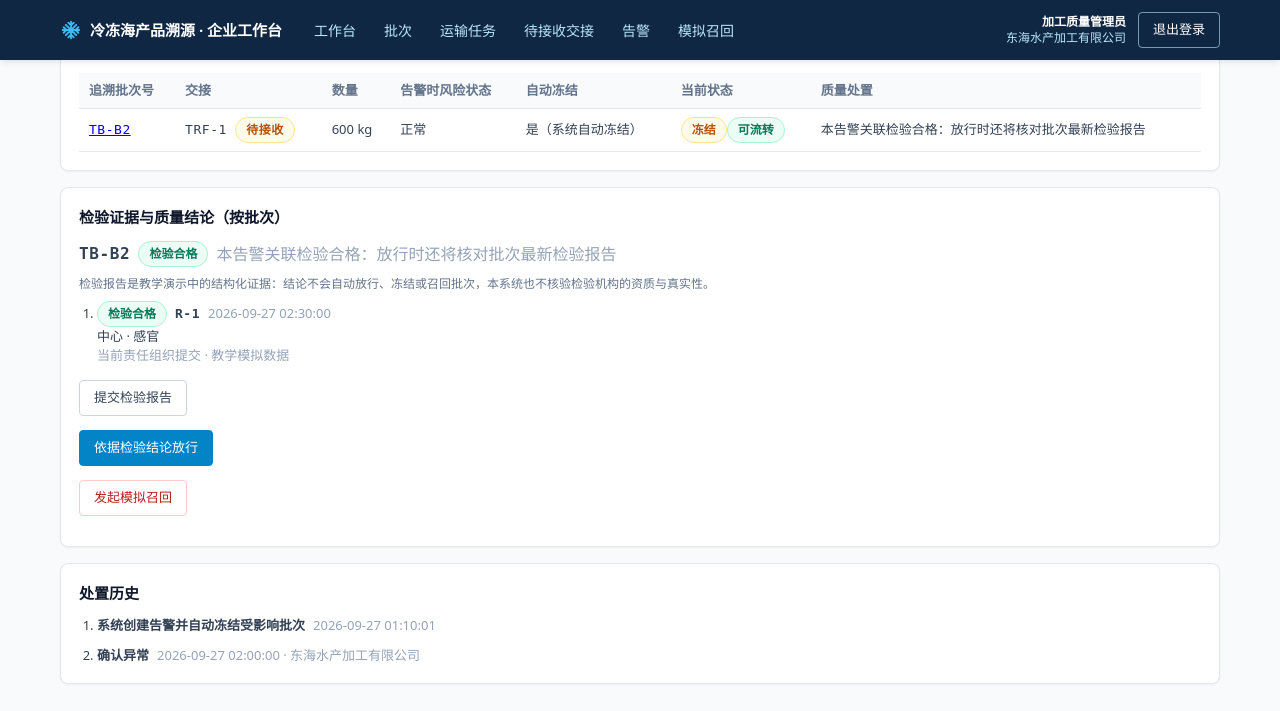
Scenario: AlertDetailView with other open holds (review fix) › records this alert decision but explains that the batch is still held by another alert and the manual freeze
(page scrolled)
Step 1. Click the button with test id "alert-release-open-21" → (146, 448), box [79,430,213,466]
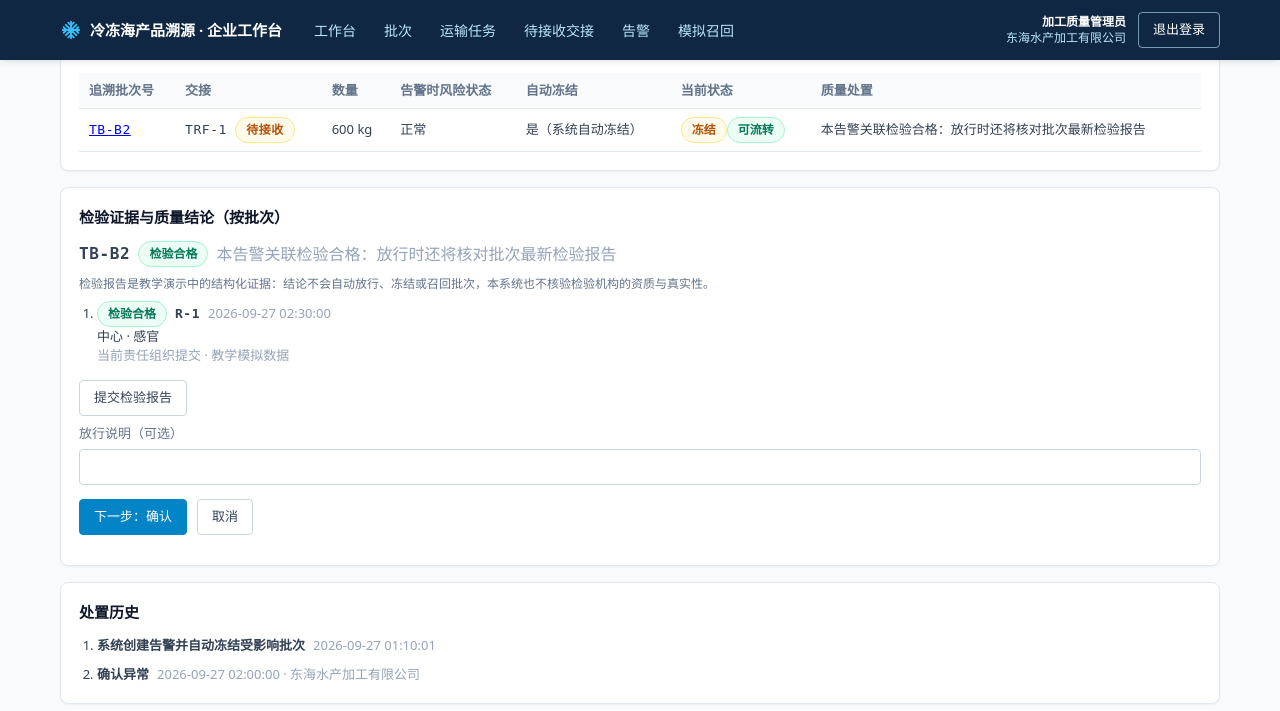
Step 2. Click the button with test id "alert-release-next" → (133, 517), box [79,499,187,535]
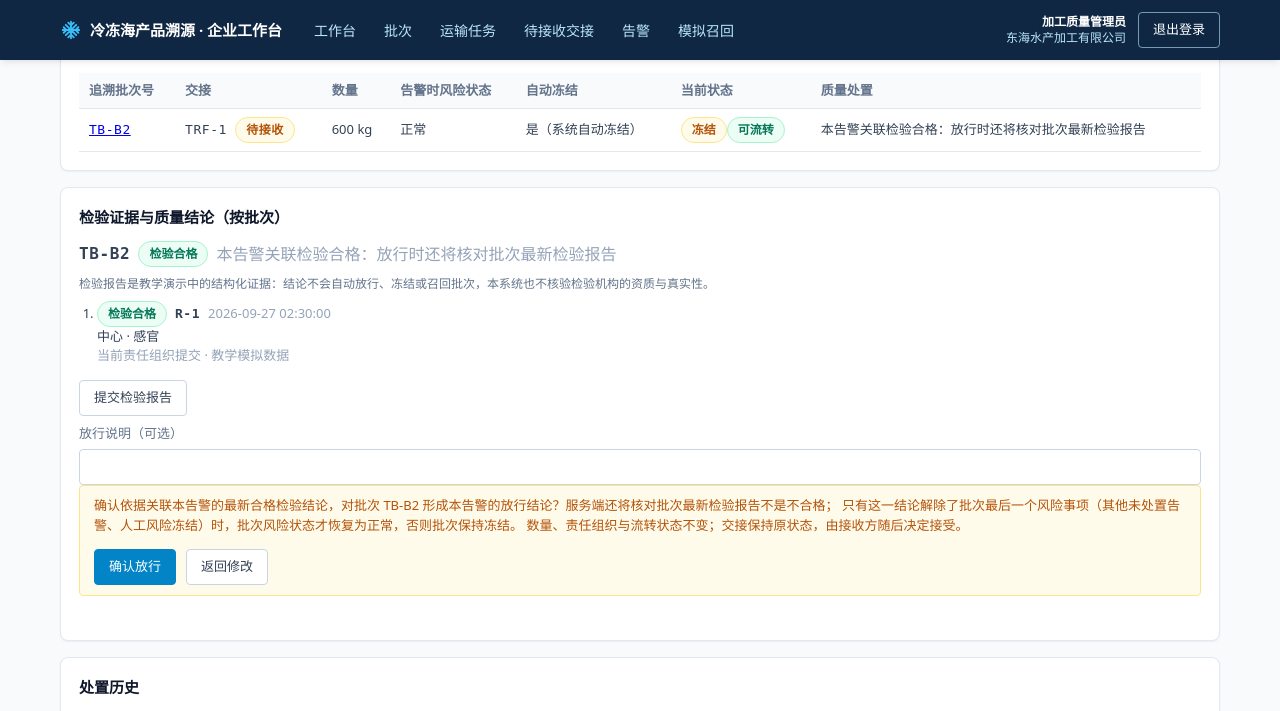
Step 3. Click the button with test id "alert-release-confirm" → (135, 567), box [94,549,176,585]
(page scrolled)
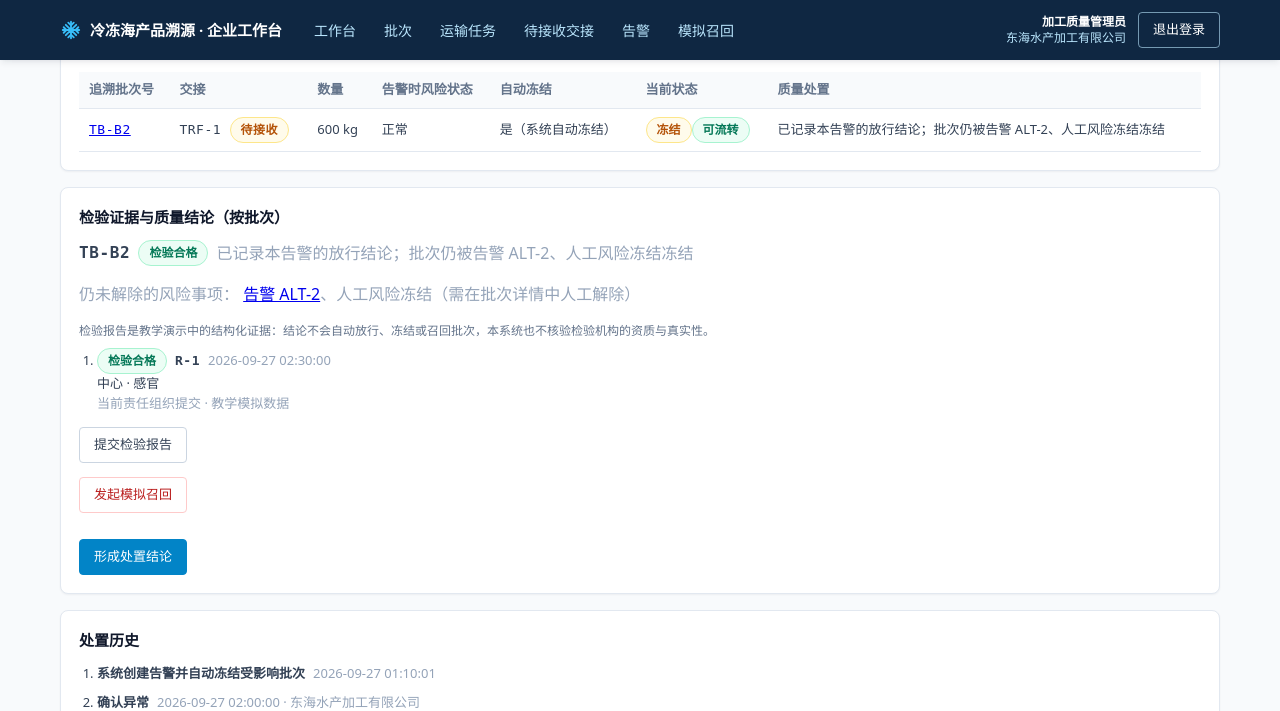
Expected: the cell with test id "alert-batch-disposition" reads "已记录本告警的放行结论；批次仍被告警 ALT-2、人工风险冻结冻结", [778,120,1165,138]
Expected: the text with test id "alert-batch-pending-manual" shows "人工解除", [336,283,640,305]
